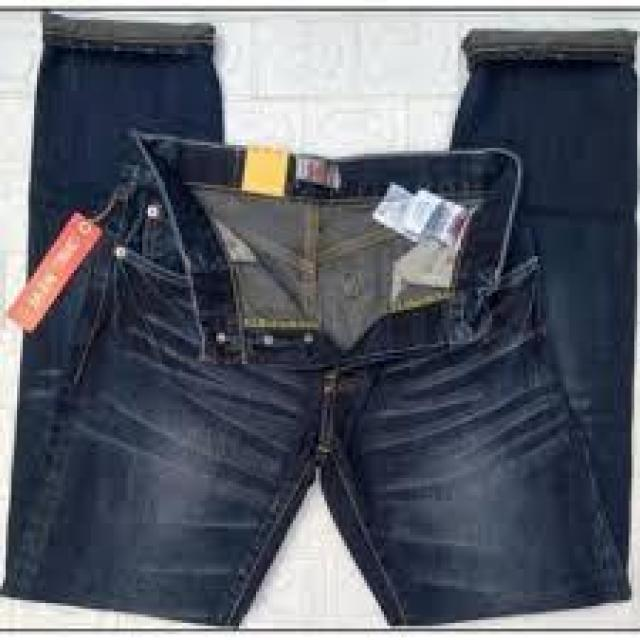short: (1, 138, 613, 621)
